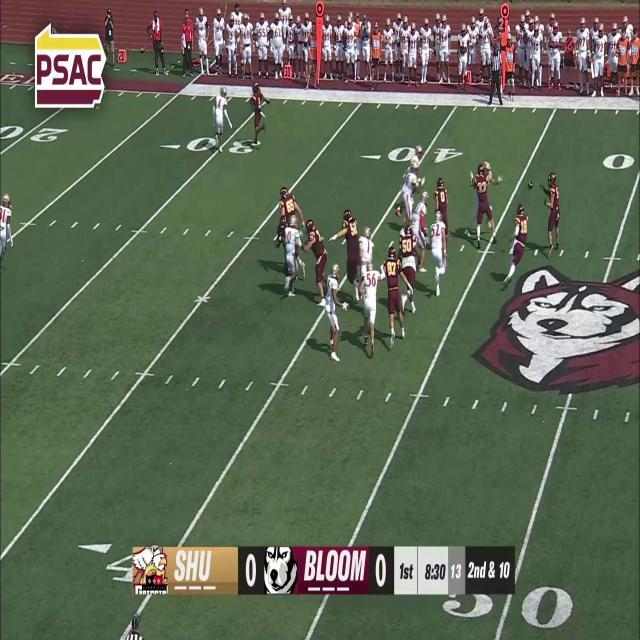football: (528, 178, 534, 192)
